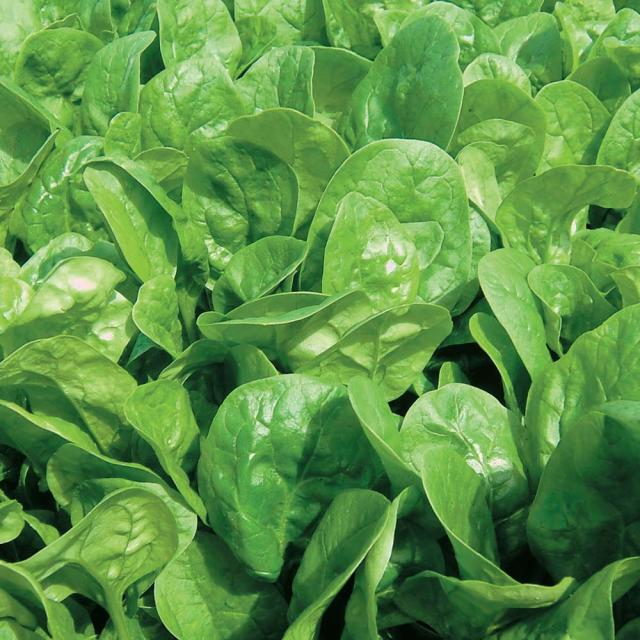spinach: (205, 378, 350, 501), (540, 414, 640, 571), (360, 23, 463, 138), (185, 140, 298, 235), (90, 171, 171, 281), (328, 198, 415, 292), (144, 61, 232, 126), (80, 31, 146, 108), (241, 46, 317, 108), (225, 238, 308, 292)
